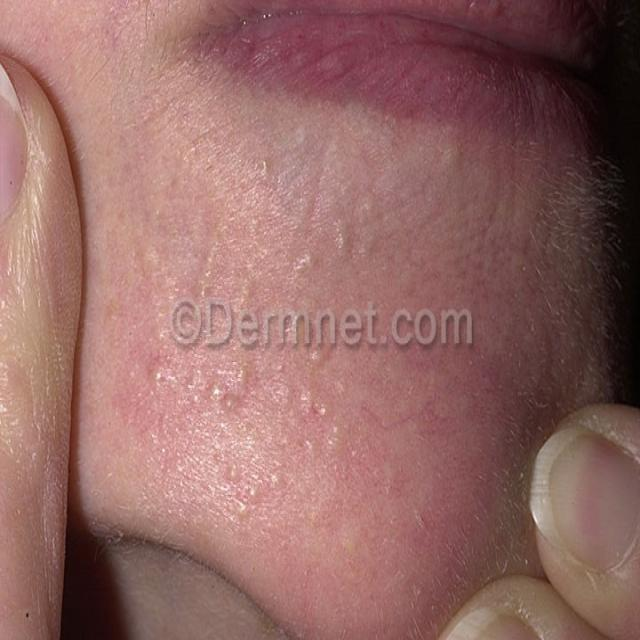Acne: (208, 365, 250, 414), (298, 384, 332, 424), (181, 361, 207, 412), (144, 354, 170, 396), (330, 217, 352, 260), (254, 147, 276, 184), (266, 463, 287, 495), (221, 459, 244, 487), (307, 345, 331, 370)
